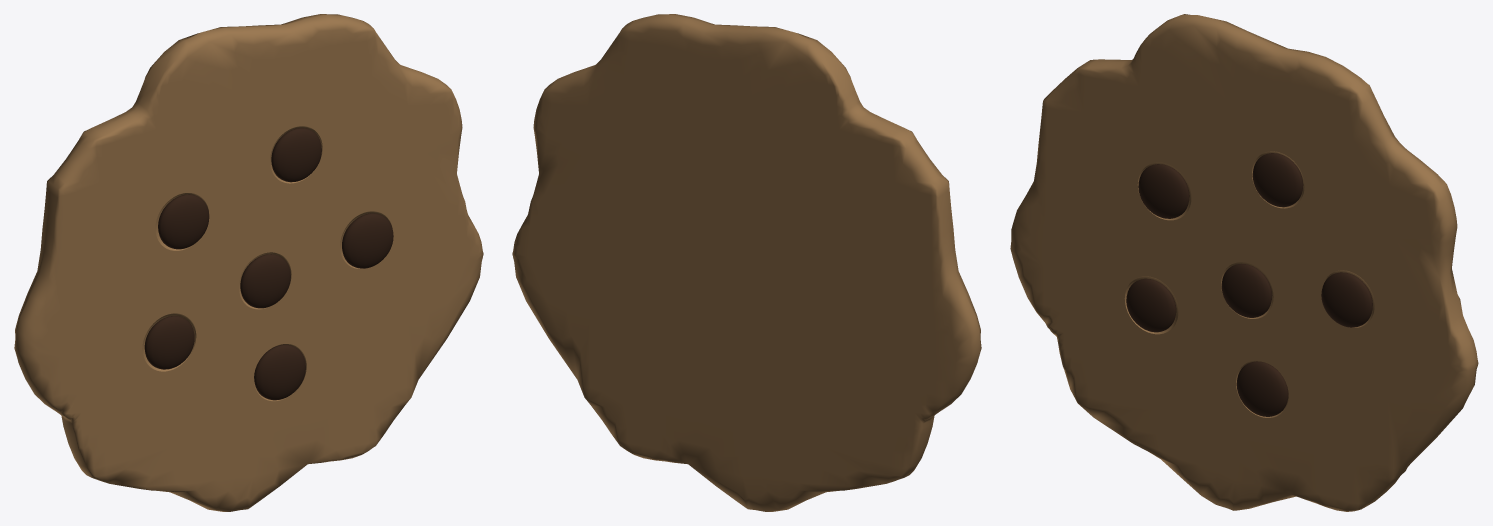
Rendered from cookie.glb.
The picture shows the model from 3 angles, left to right: view 1: azimuth 30°, elevation 25°; view 2: azimuth 150°, elevation 25°; view 3: azimuth 330°, elevation 25°; orthographic projection.
Parts seen in each view (by area): view 1: cookie; view 2: cookie; view 3: cookie.
Part boxes in pixels (x1=…): cookie: x1=14, y1=14, x2=483, y2=511; cookie: x1=512, y1=14, x2=981, y2=511; cookie: x1=1010, y1=14, x2=1478, y2=511.
Size of the model in its own units: 0.02 by 0.02 by 0.00146.
